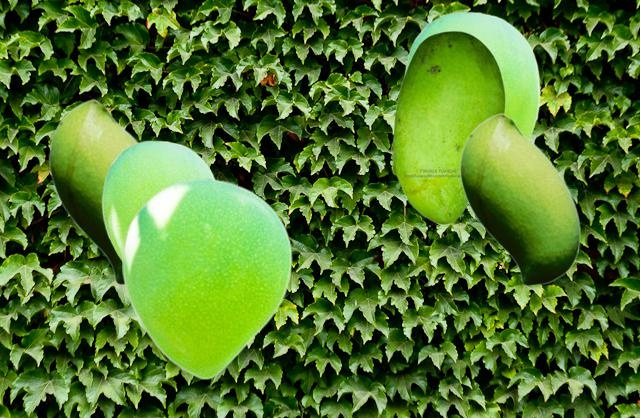green_mango: (122, 177, 291, 379), (390, 30, 505, 224), (459, 112, 579, 285), (403, 11, 539, 140), (48, 98, 138, 284), (101, 140, 216, 262)
